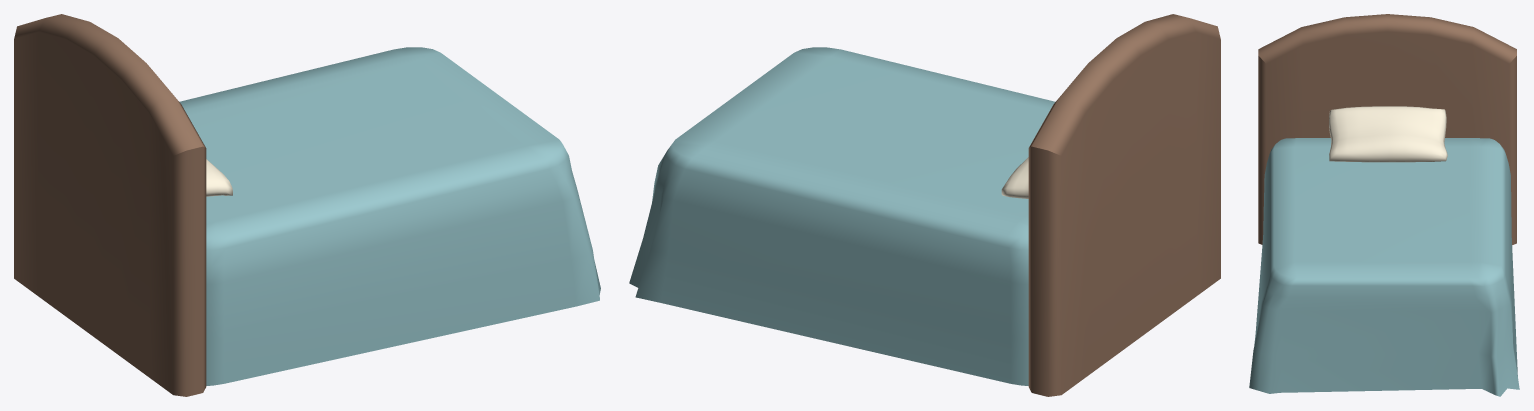
The model's file is SM_bed.fbx.
3 views of the same model, side by side, from view 1: azimuth 30°, elevation 25°; view 2: azimuth 150°, elevation 25°; view 3: azimuth 270°, elevation 25° (orthographic). The views are drawn at different scales.
Visible parts, largest first — view 1: SM_bed; view 2: SM_bed; view 3: SM_bed.
Boxes of the visible parts, x1,y1,x2,y2 form: SM_bed: (14, 14, 600, 396); SM_bed: (629, 14, 1220, 396); SM_bed: (1249, 14, 1519, 396).
Size of the model in its own units: 1.67 by 1.07 by 1.17.
